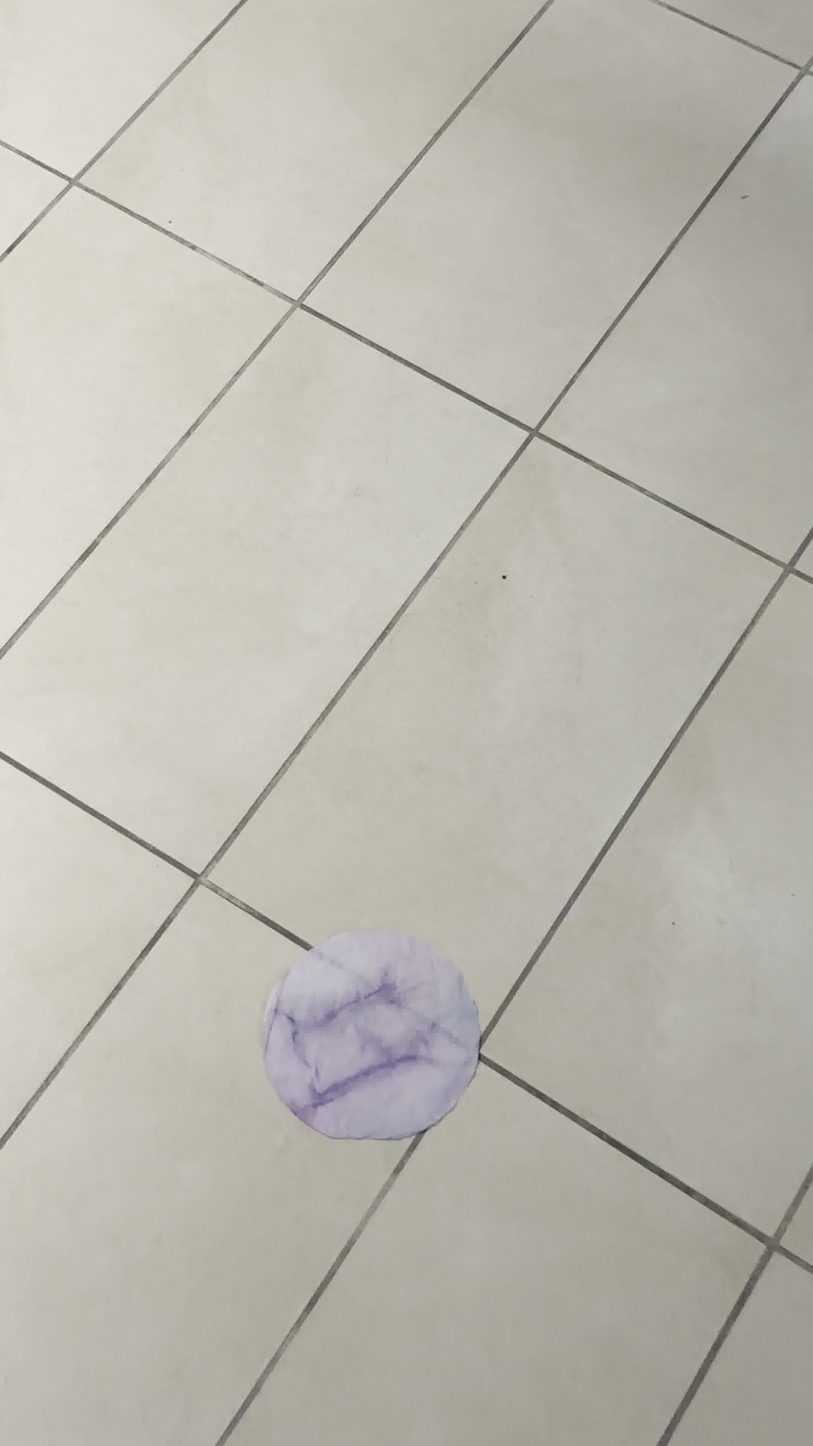Target: (258, 922, 481, 1142)
